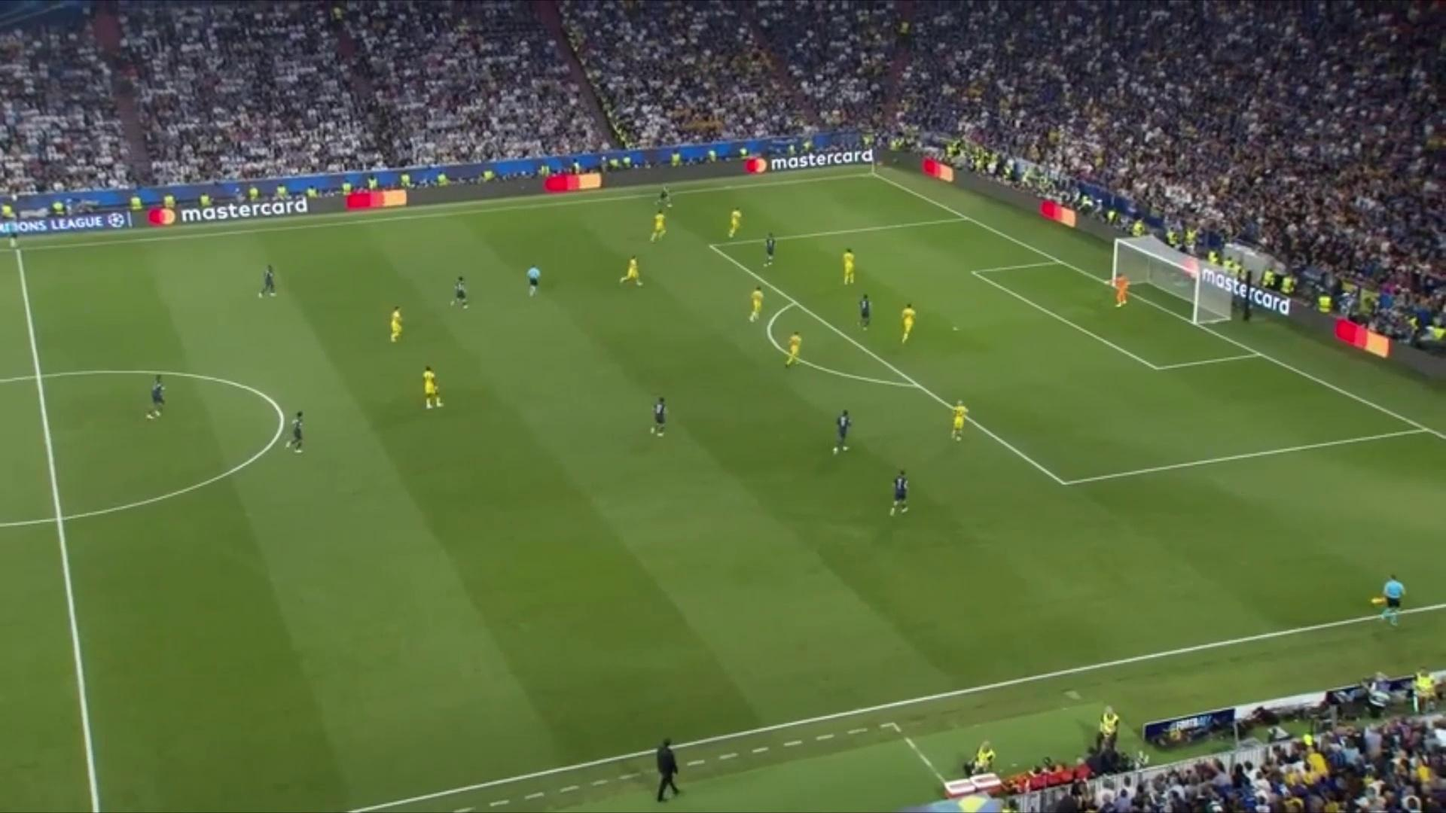ball: (667, 204, 673, 208)
